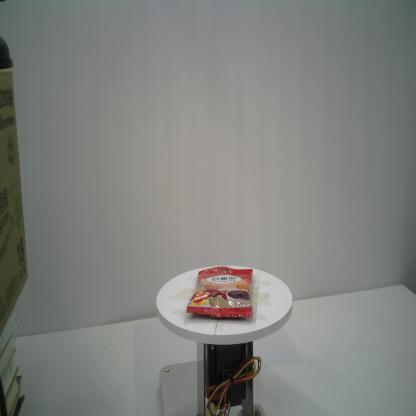Instant Drink: (183, 263, 257, 321)
